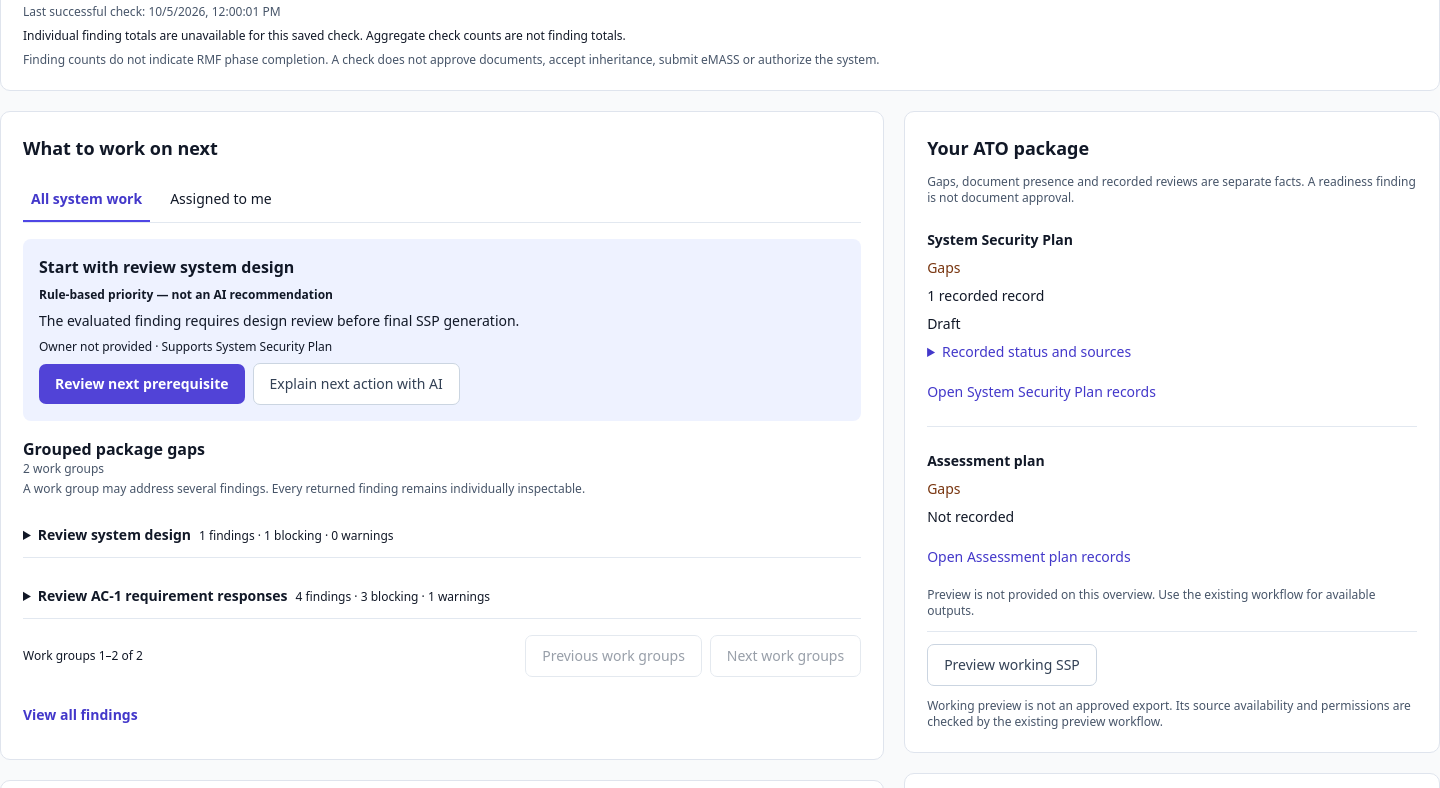
Test: RMF journey overview › keeps explanations and phase records unchanged when AI is unavailable
(page scrolled)
Expected: the text "2 work groups" is shown, [23,460,104,476]
Click the button "Explain next action with AI": (356, 384) [253,362,460,404]
(page scrolled)
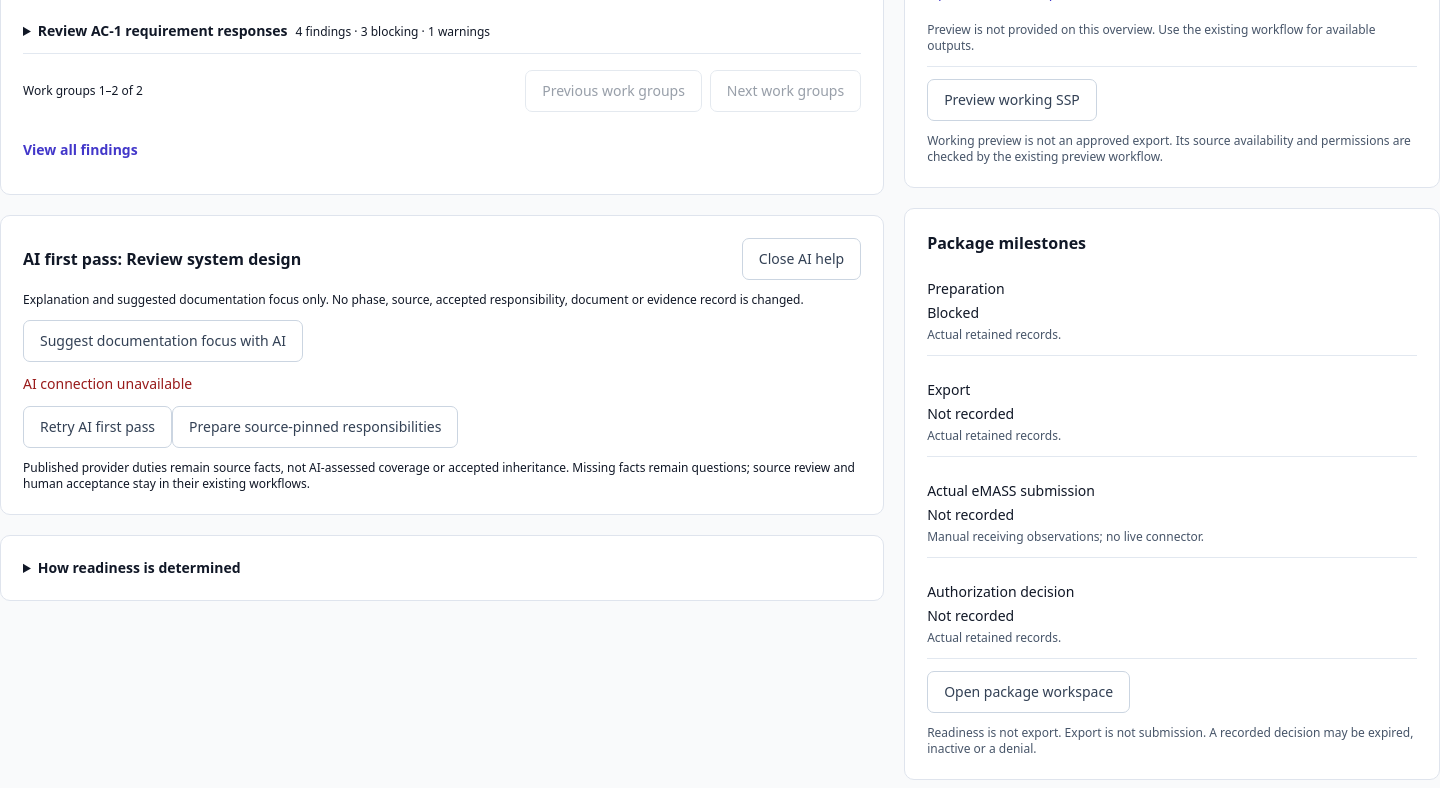
Result: the text "AI connection unavailable" is shown at [23,374,192,392]
